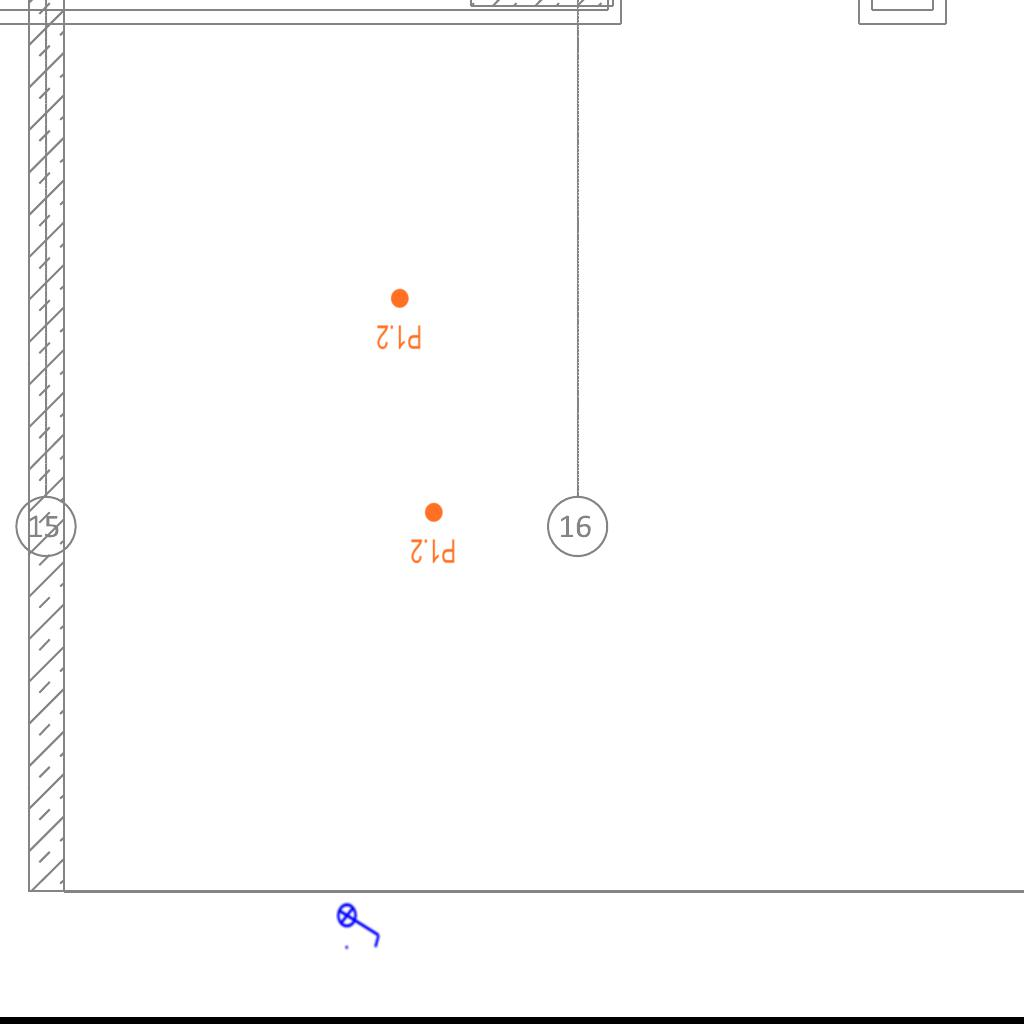Ausschalter_beleuchtet: (336, 896, 384, 952)
Downlight_LED_Einbauleuchten_Flur: (410, 501, 456, 565), (376, 287, 422, 351)
